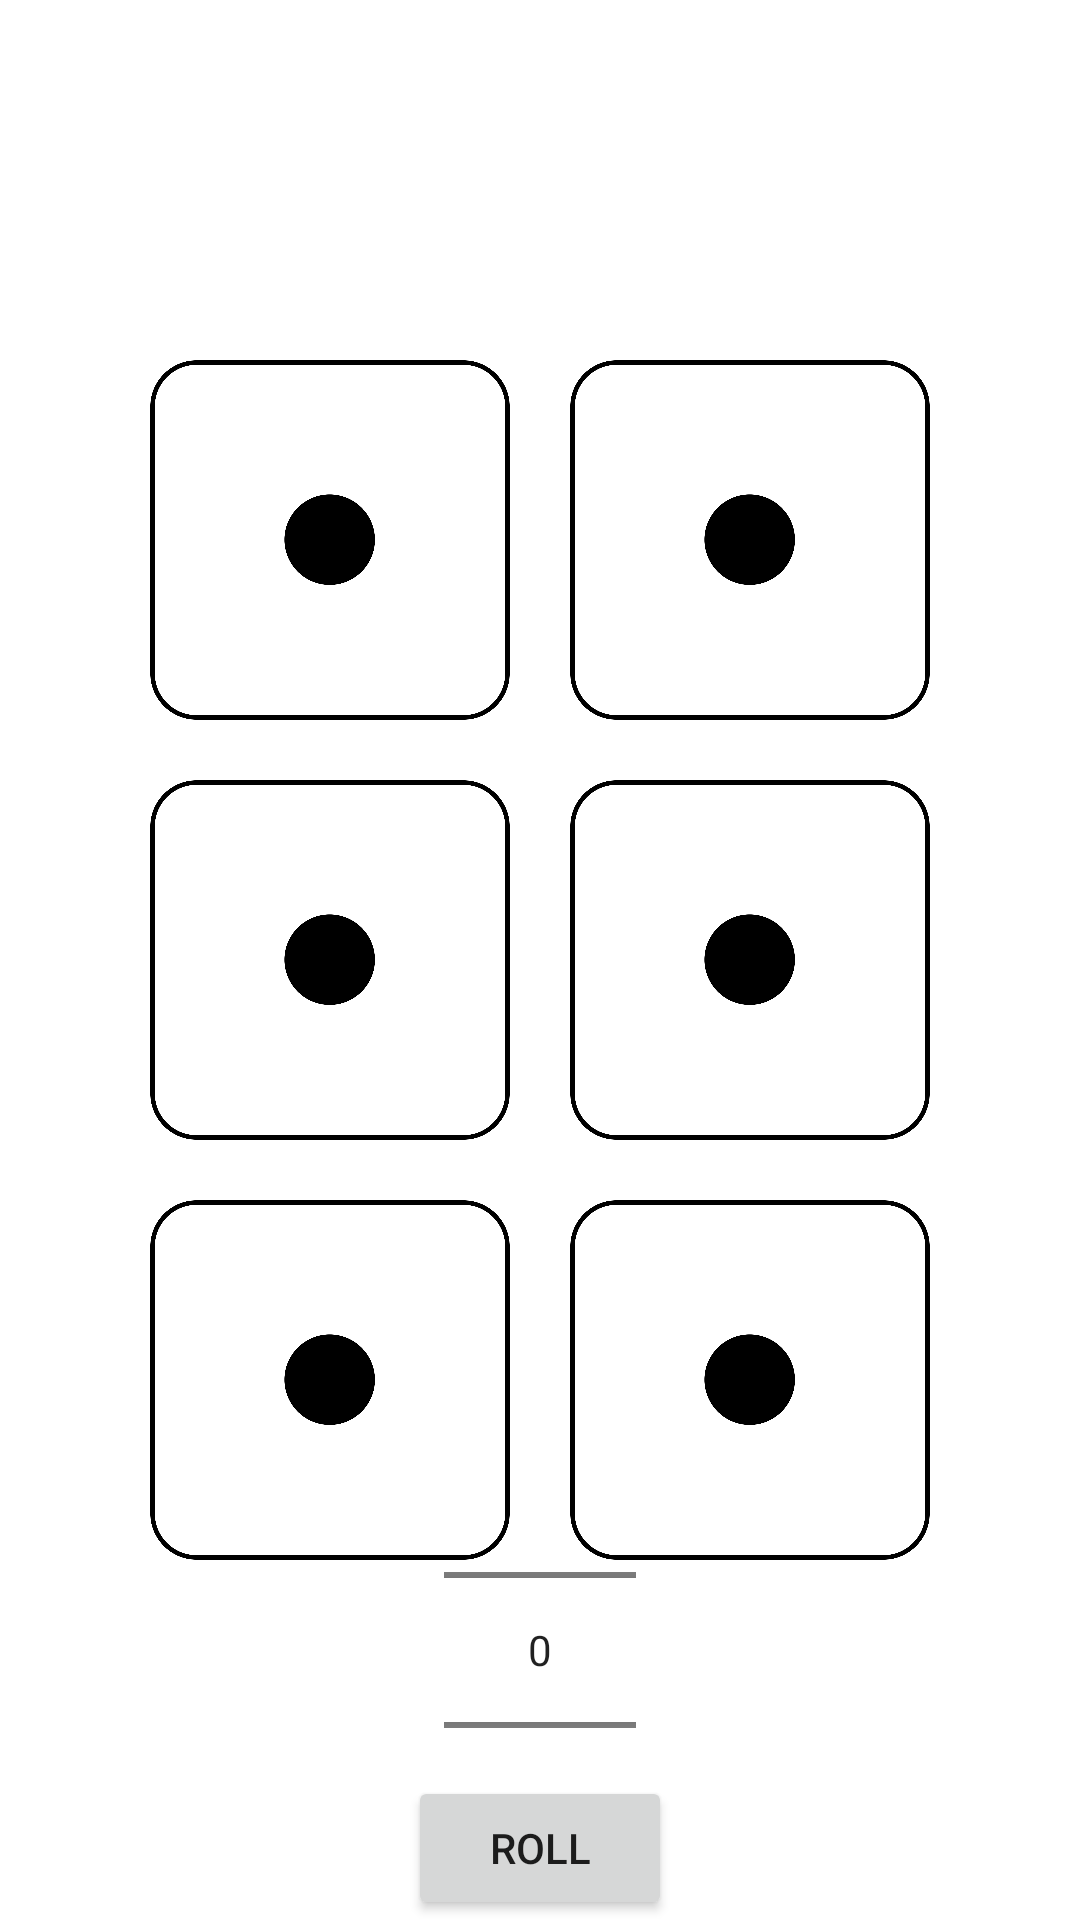

Named icons in this screenshot (1080px×1920px) and their centers, (x,y):
dice: (330,540), (750,540), (330,960), (750,960), (330,1380), (750,1380)
